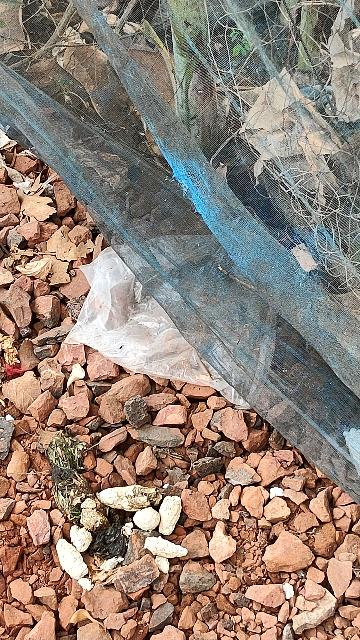polythene: (68, 180, 297, 399)
